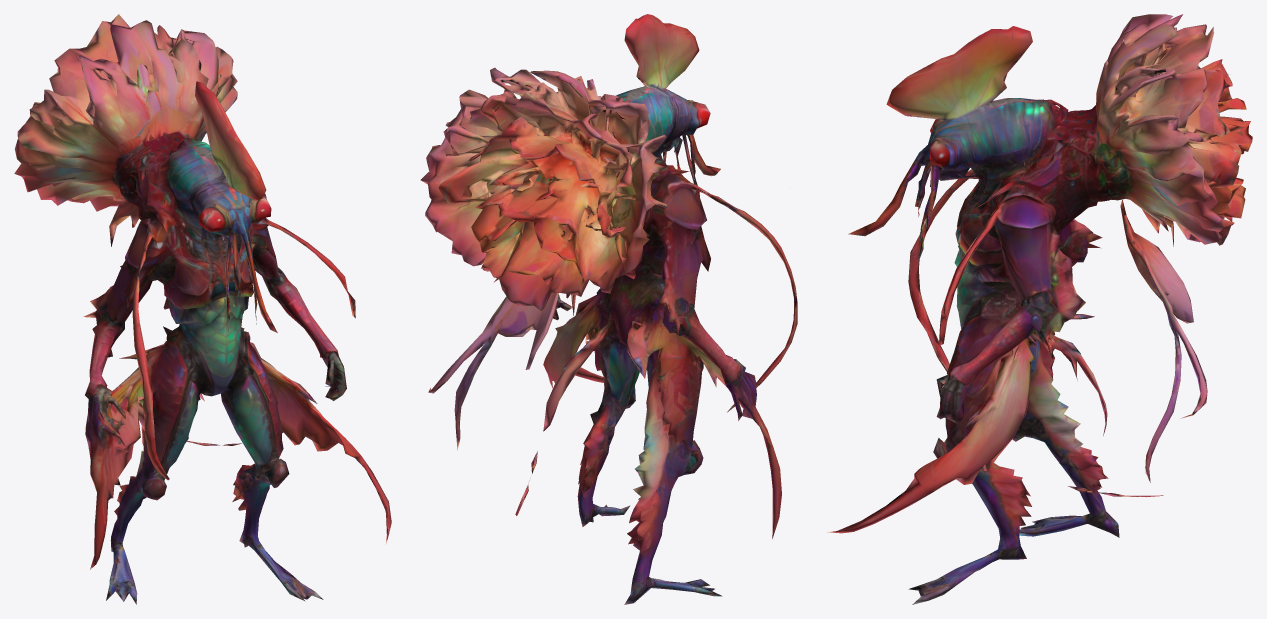
File: Meshy_AI_Abyssal_Guardian_0509141700_texture.glb
The picture shows the model from 3 angles, left to right: view 1: azimuth 30°, elevation 25°; view 2: azimuth 150°, elevation 25°; view 3: azimuth 270°, elevation 25°; orthographic projection. The views are drawn at different scales.
Parts seen in each view (by area): view 1: Mesh_0.001; view 2: Mesh_0.001; view 3: Mesh_0.001.
Part boxes in pixels (bbox=[...]): Mesh_0.001: bbox=[14, 14, 391, 604]; Mesh_0.001: bbox=[420, 14, 797, 604]; Mesh_0.001: bbox=[827, 14, 1252, 604].
Size of the model in its own units: 4.97 by 10 by 7.03.
1 material, 1 textured.
